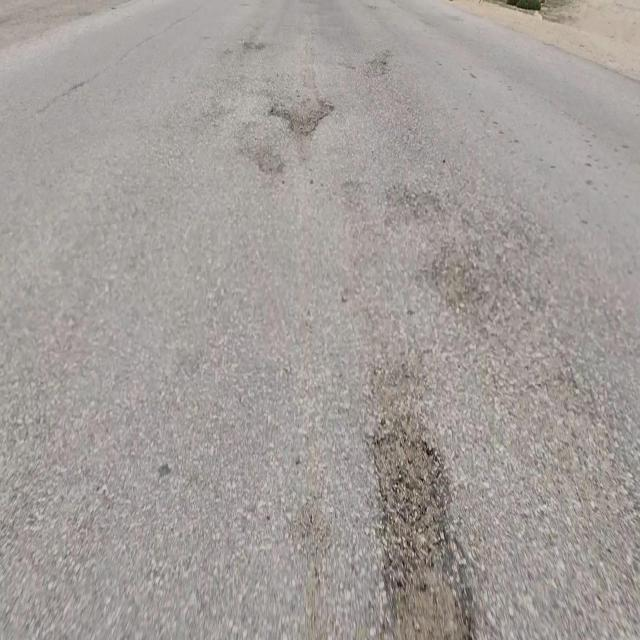Potholes: (371, 426, 474, 640), (267, 92, 338, 164), (239, 147, 285, 177)
